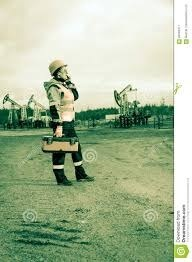helmet: (47, 58, 71, 77)
person with full safety: (40, 58, 97, 188)
safety vest: (47, 87, 79, 125)
